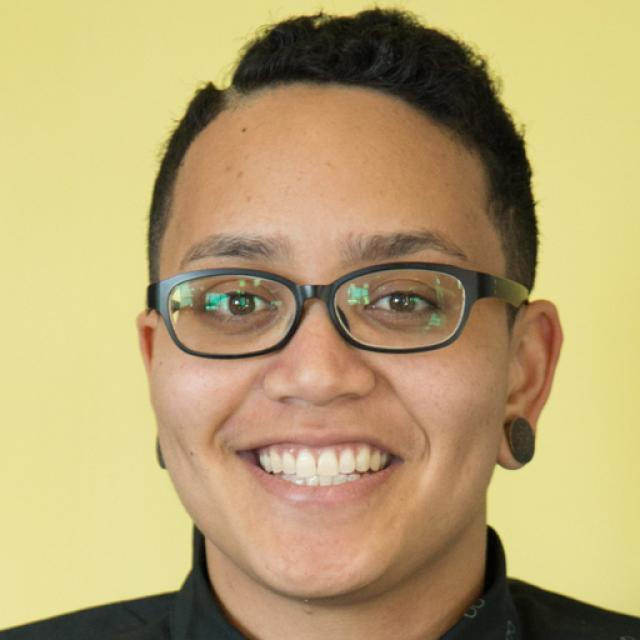happy: (149, 80, 502, 600)
